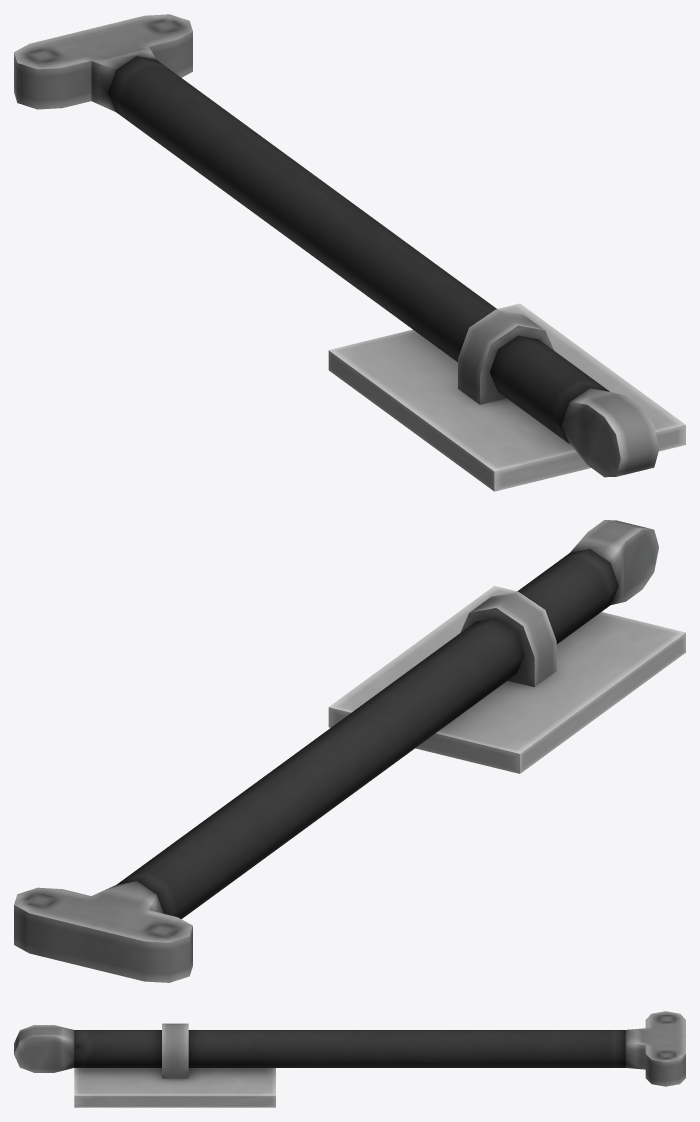
The model's file is 4mv_sensor_magnetometer_srf_1_mast.obj.
3 views of the same model, one above another, from view 1: azimuth 30°, elevation 25°; view 2: azimuth 150°, elevation 25°; view 3: azimuth 270°, elevation 25° (orthographic). The views are drawn at different scales.
Parts seen in each view (by area): view 1: mesh1; view 2: mesh1; view 3: mesh1.
Part boxes in pixels (x1=…): mesh1: x1=14, y1=14, x2=685, y2=491; mesh1: x1=14, y1=520, x2=685, y2=982; mesh1: x1=14, y1=1011, x2=685, y2=1107.
Size of the model in its own units: 0.125 by 0.0563 by 0.625.
Materials: 1 (1 with a texture image).
